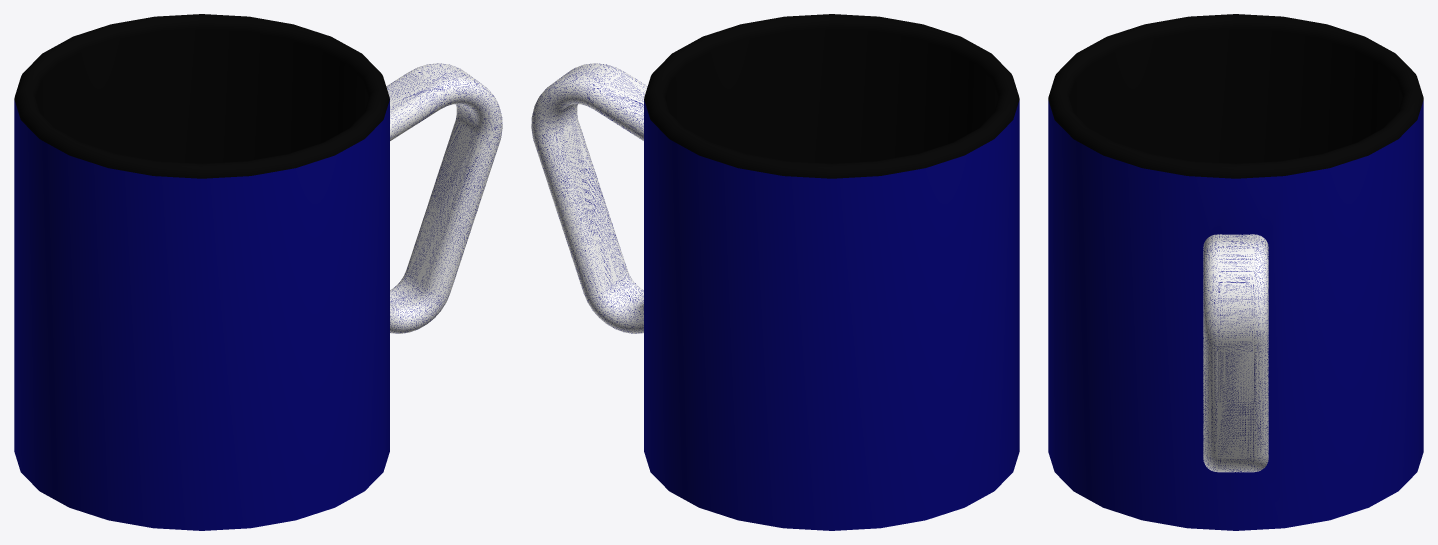
File: mug_01_origin_gt.dae
The picture shows the model from 3 angles, left to right: view 1: azimuth 30°, elevation 25°; view 2: azimuth 150°, elevation 25°; view 3: azimuth 270°, elevation 25°; orthographic projection.
Visible parts, largest first — view 1: SketchUp (×3); view 2: SketchUp (×3); view 3: SketchUp (×3).
Boxes of the visible parts, <box> form: SketchUp (×3): <box>14,14,502,530</box>; SketchUp (×3): <box>531,14,1019,530</box>; SketchUp (×3): <box>1048,14,1423,530</box>.
Size of the model in its own units: 71.99 by 51.8 by 55.05.
